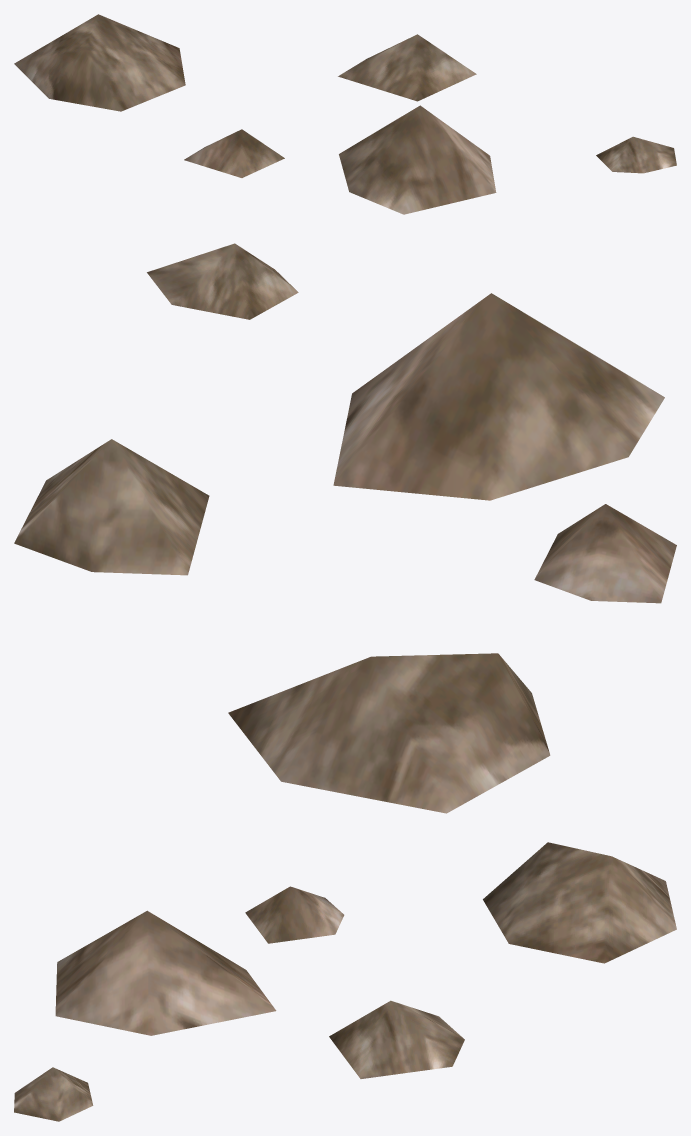
Rendered from INST_OH_FINE_ROCKS_02.fbx.
The picture shows the model from 3 angles, top to bottom: view 1: azimuth 30°, elevation 25°; view 2: azimuth 150°, elevation 25°; view 3: azimuth 270°, elevation 25°; orthographic projection. The views are drawn at different scales.
Parts seen in each view (by area): view 1: INST_OH_FINE_ROCKS_02; view 2: INST_OH_FINE_ROCKS_02; view 3: INST_OH_FINE_ROCKS_02.
Part boxes in pixels (box(x1,y1,x2,y2)): INST_OH_FINE_ROCKS_02: box(14, 14, 676, 214); INST_OH_FINE_ROCKS_02: box(14, 243, 676, 813); INST_OH_FINE_ROCKS_02: box(14, 842, 676, 1121).
Size of the model in its own units: 2953 by 465 by 3358.
Materials: 1 (1 with a texture image).
